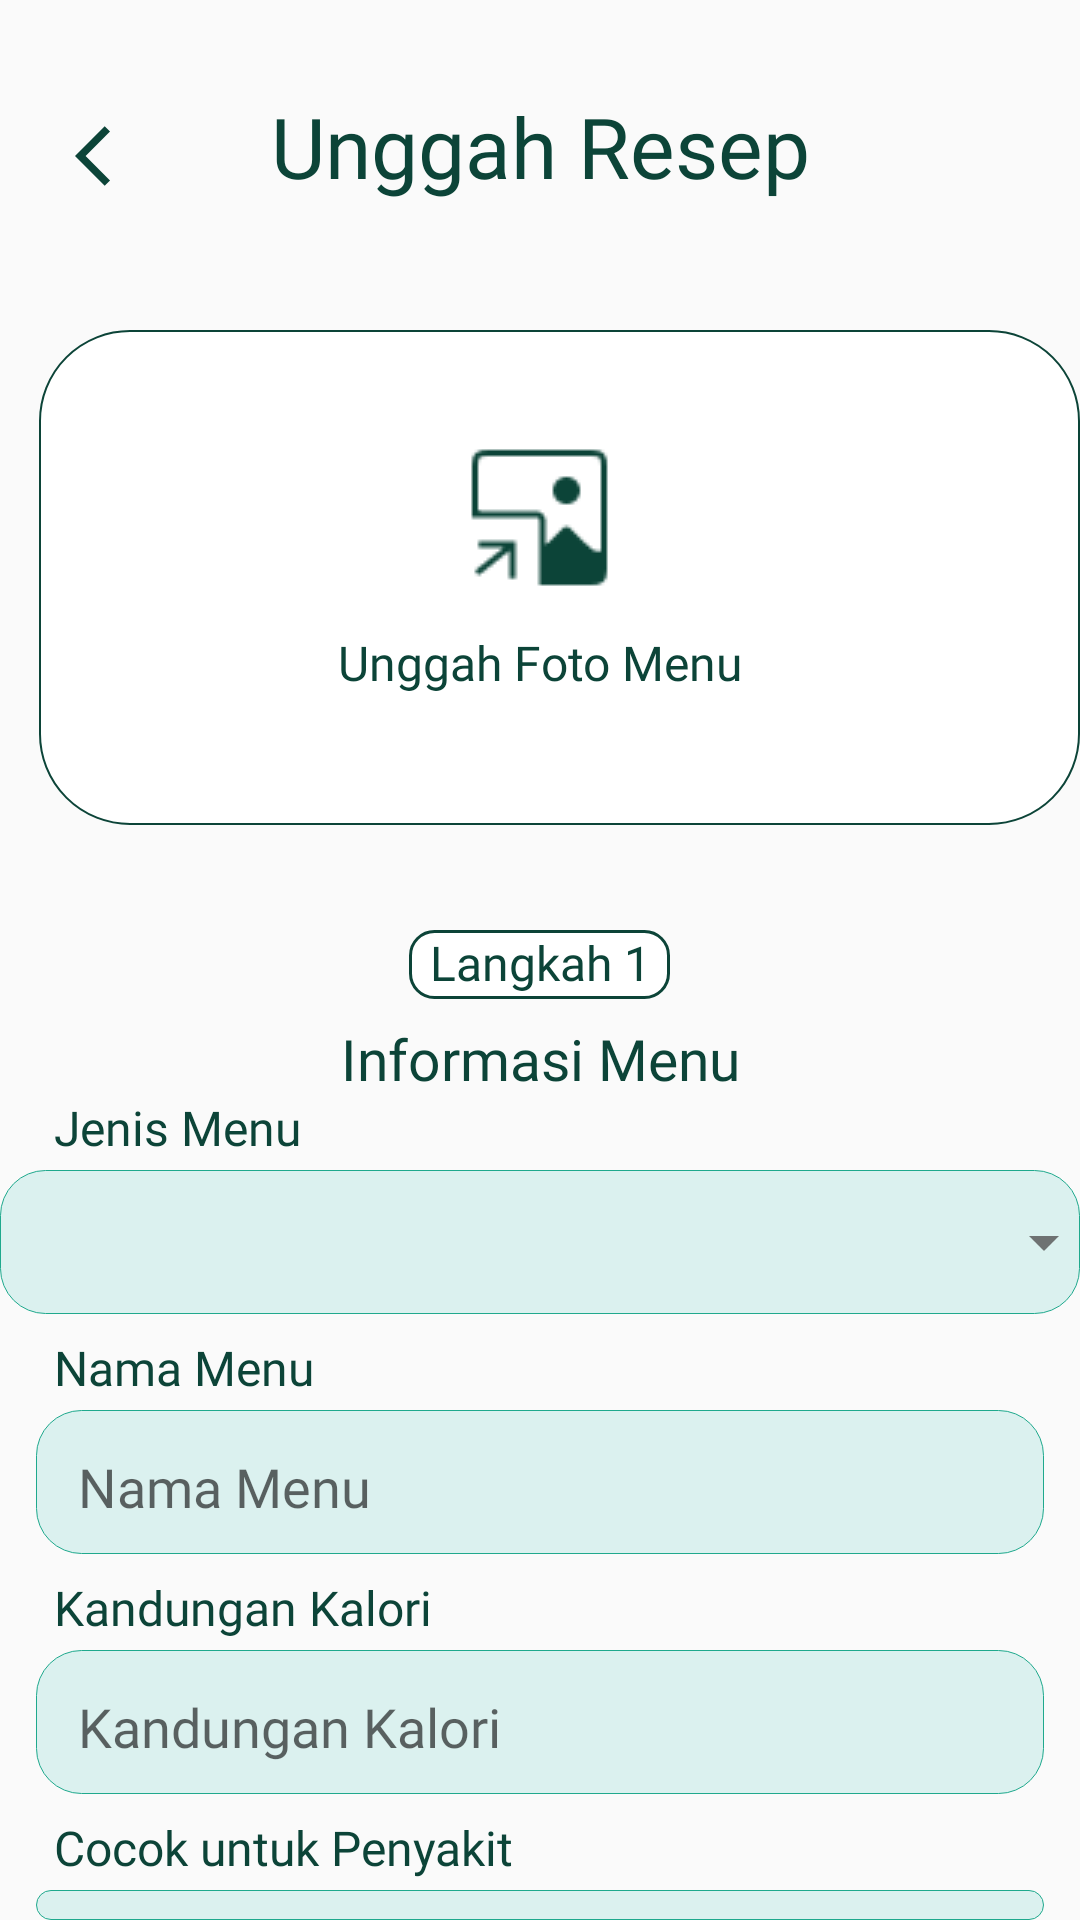

Icons on this 1080×1920 Android screen, each with its box as (x1, y1, x2, y2):
back: (75, 126, 110, 186)
upload: (471, 449, 608, 586)
